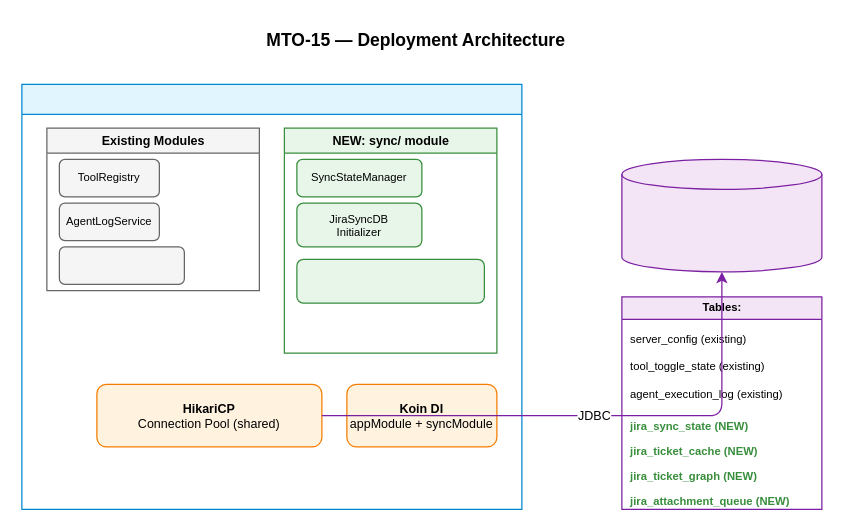
This 844x531 diagram has some shape labels left out. Here are the shapes that lost their labels. From the top down, the box of each, then its label:
(621, 158, 822, 272): PostgreSQL 16 (External)
(58, 246, 184, 284): DatabaseInitializer
(296, 258, 484, 303): Repositories (Cache, Graph, Queue)
(21, 83, 522, 509): JVM Process (mcp-orchestrator-all.jar)
